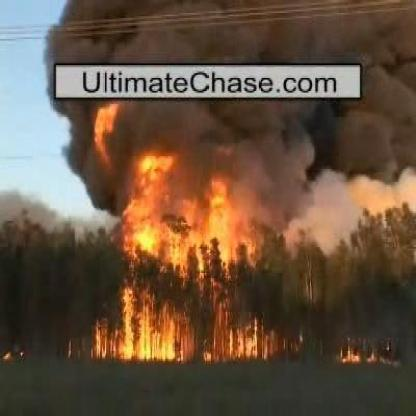-: (75, 103, 384, 189), (76, 12, 383, 60)
foggia-v2-map80-epoch100 - v1 4323: (124, 308, 171, 355)
